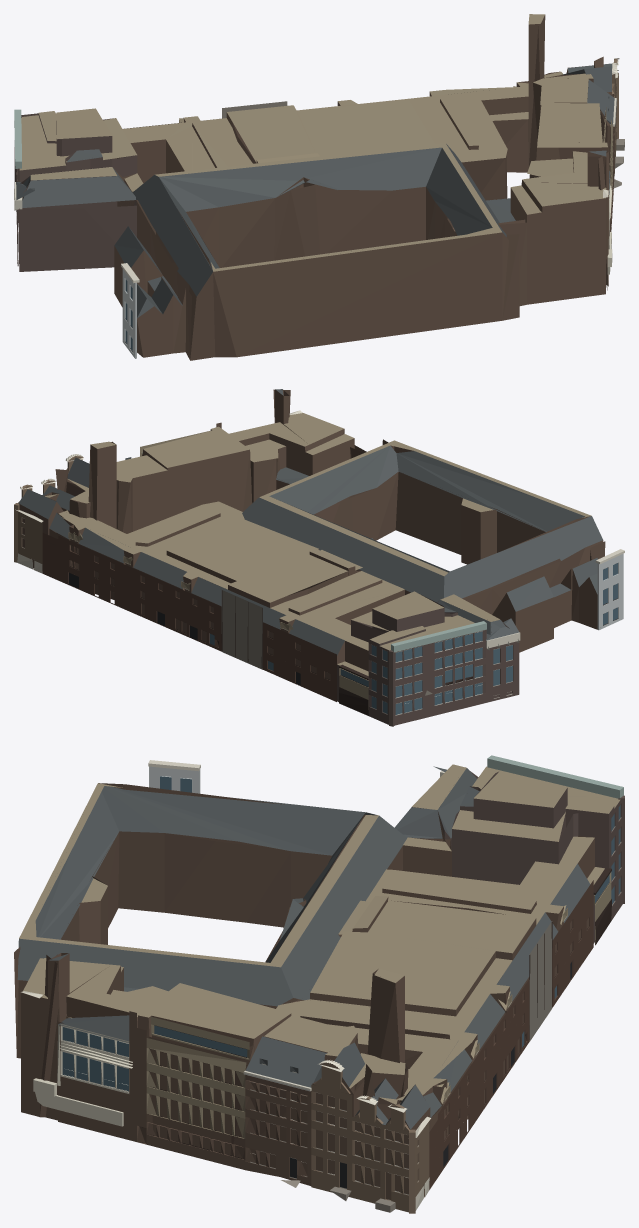
File: binnengasthuis-kloveniersburgwal.lod1.glb
3 renders of one model, top to bottom at view 1: azimuth 30°, elevation 25°; view 2: azimuth 150°, elevation 25°; view 3: azimuth 270°, elevation 25°, orthographic. The views are drawn at different scales.
Visible parts, largest first — view 1: binnengasthuis-kloveniersburgwal; view 2: binnengasthuis-kloveniersburgwal; view 3: binnengasthuis-kloveniersburgwal.
Boxes of the visible parts, x1=… form: binnengasthuis-kloveniersburgwal: x1=14, y1=14, x2=624, y2=360; binnengasthuis-kloveniersburgwal: x1=14, y1=389, x2=624, y2=726; binnengasthuis-kloveniersburgwal: x1=14, y1=755, x2=624, y2=1213.
Bounding box in the file's own units: 113 × 27.1 × 81.86.
